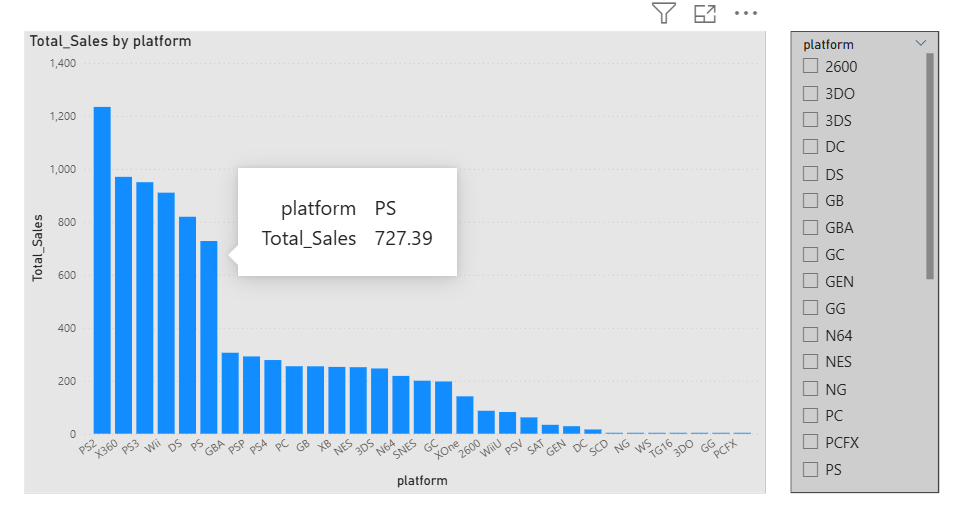

Layout of this report page (visuals, bound fields, positions):
{"tool":"powerbi","page":{"name":"Platform sales","canvas":[1280,720],"ordinal":2},"visuals":[{"type":"columnChart","fields":{"Y":["video_games_sales.Total_Sales"],"Category":["video_games_sales.platform"]},"box":[239.6,110.1,799.9,498.7],"z":0},{"type":"slicer","fields":{"Values":["video_games_sales.platform"]},"box":[1067.1,110.1,160.3,498.7],"z":1000}]}

Visuals, with their boxes on the page's 1280x720 design canvas (x1, y1, x2, y2). These are canvas units, not pixel positions in the 958x514 screenshot, which may show the page scaled, cropped or inside an application window:
columnChart - video_games_sales.Total_Sales x video_games_sales.platform: (240,110,1040,609)
slicer - video_games_sales.platform: (1067,110,1227,609)
